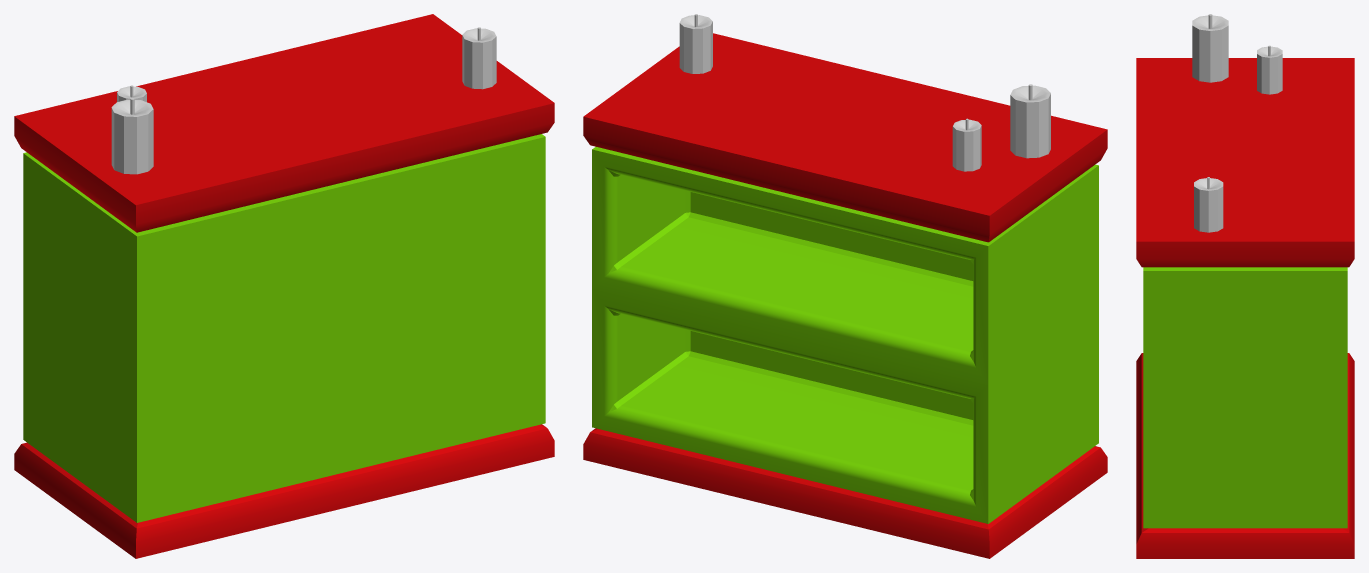
Rendered from autel_ultimate.fbx.
3 views of the same model, side by side, from view 1: azimuth 30°, elevation 25°; view 2: azimuth 150°, elevation 25°; view 3: azimuth 270°, elevation 25° (orthographic). The views are drawn at different scales.
Parts seen in each view (by area): view 1: polySurface1212; view 2: polySurface1212; view 3: polySurface1212.
Part boxes in pixels (bbox=[...]): polySurface1212: bbox=[14, 14, 554, 558]; polySurface1212: bbox=[583, 14, 1107, 558]; polySurface1212: bbox=[1136, 14, 1354, 558].
Size of the model in its own units: 181 by 174 by 91.14.
